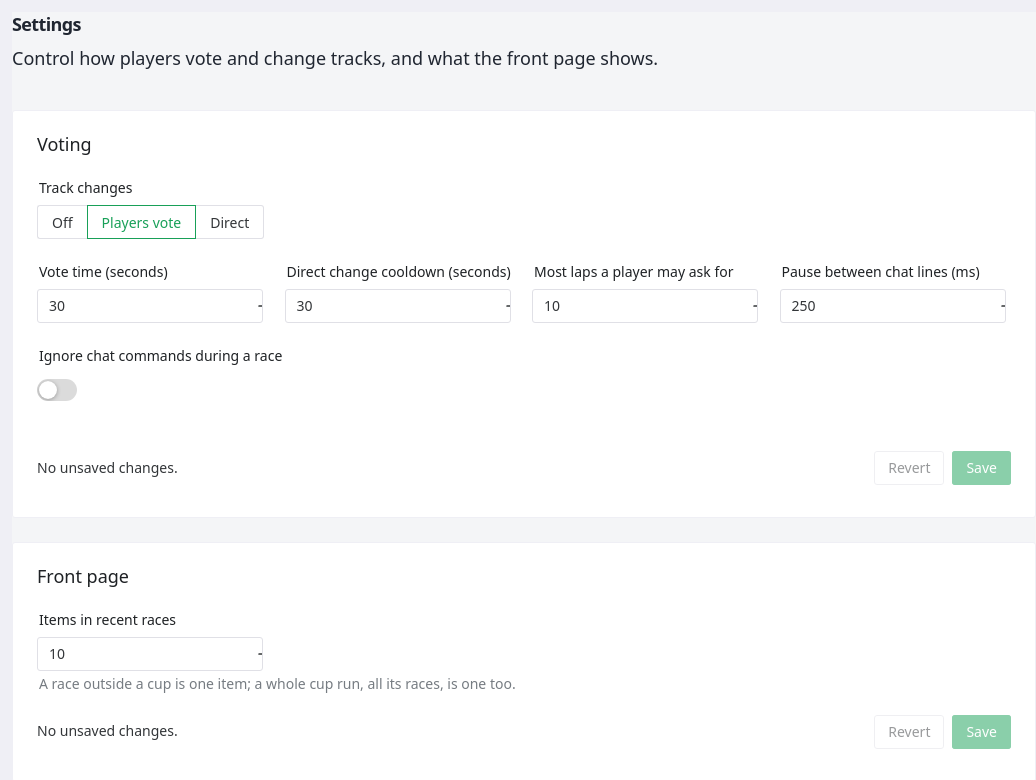
Scenario: SettingsView › saves only the changed fields, with the loaded version as If-Match
Check: the button "Save" below "Most laps a player may ask for" is disabled, box [952,451,1011,485]
Replace the text in the field named "Most laps a player may ask for" with "12" at [645, 306], box [544,289,746,323]
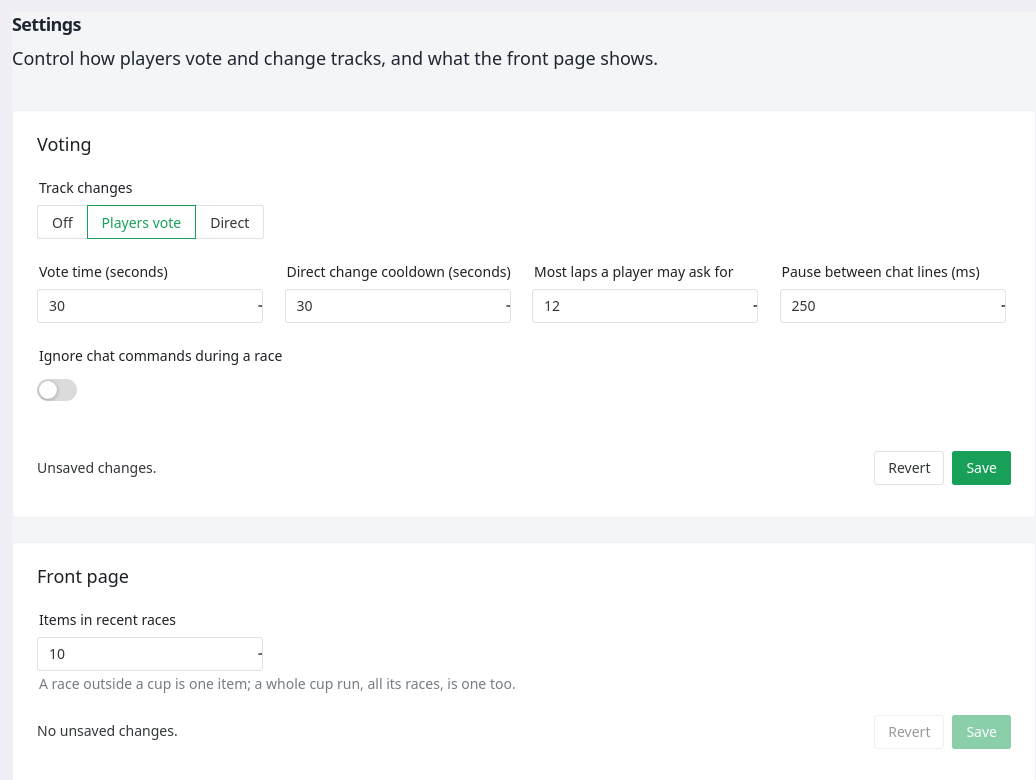
Click the button "Save" below "Most laps a player may ask for" at [982, 468], box [952,451,1011,485]
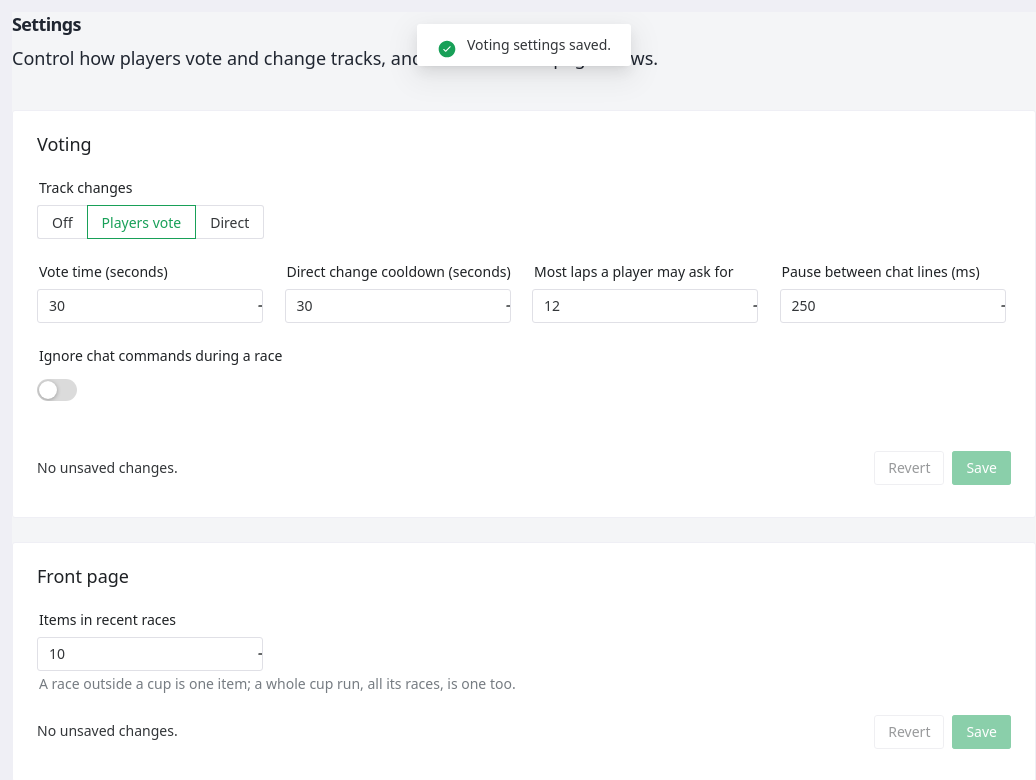
Check: the text "Voting settings saved." is shown, box [467,34,611,56]
